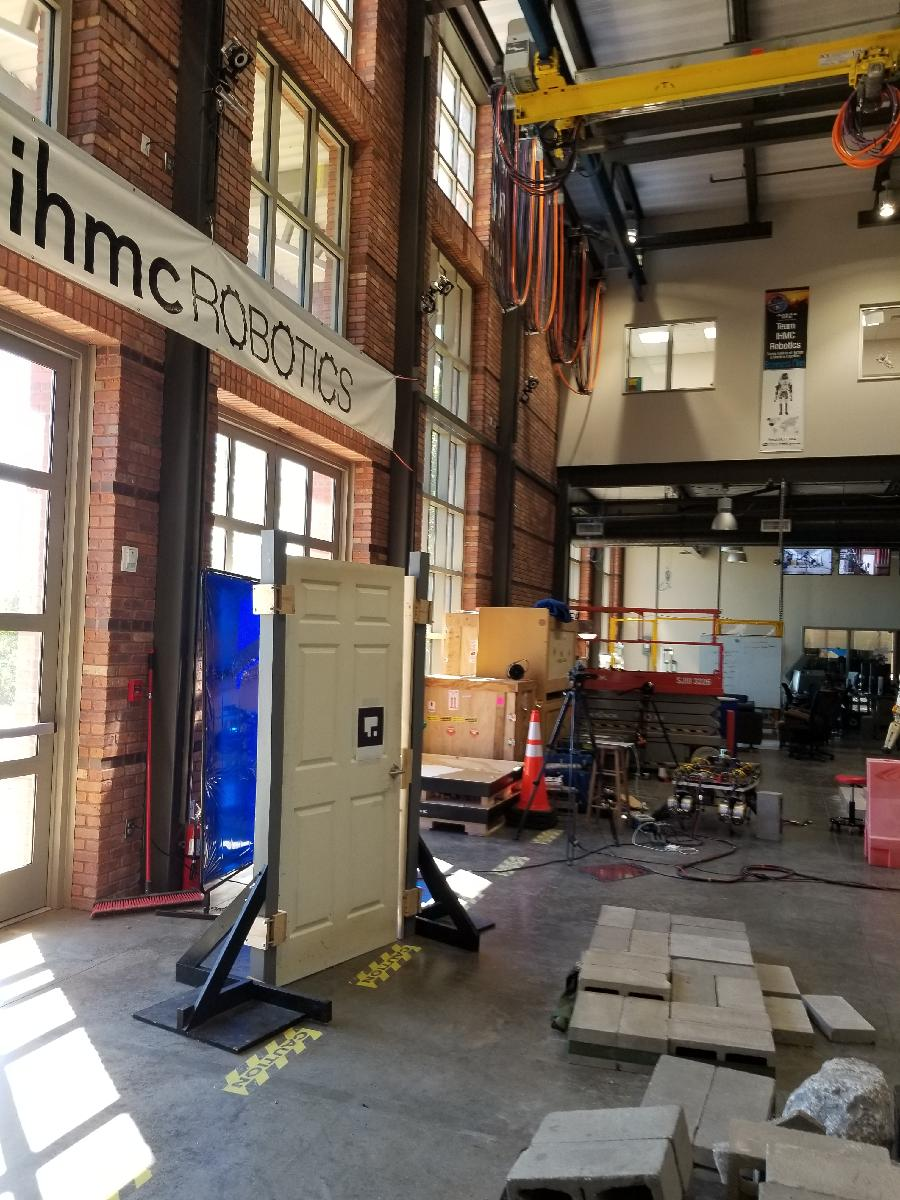door: (271, 550, 410, 988)
doorHandle: (386, 759, 404, 784)
